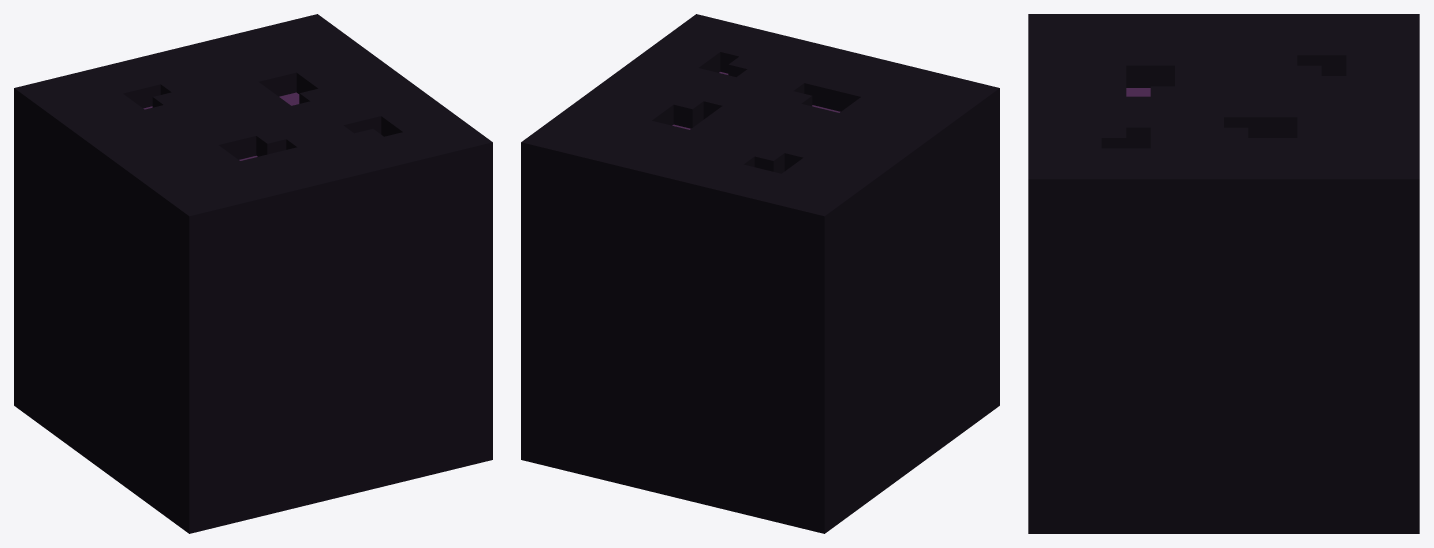
Rendered from tiles-1.obj.
3 renders of one model, left to right at view 1: azimuth 30°, elevation 25°; view 2: azimuth 150°, elevation 25°; view 3: azimuth 270°, elevation 25°, orthographic. The views are drawn at different scales.
Bounding box in the file's own units: 1.6 × 1.6 × 1.6.
Materials: 1 (1 with a texture image).
